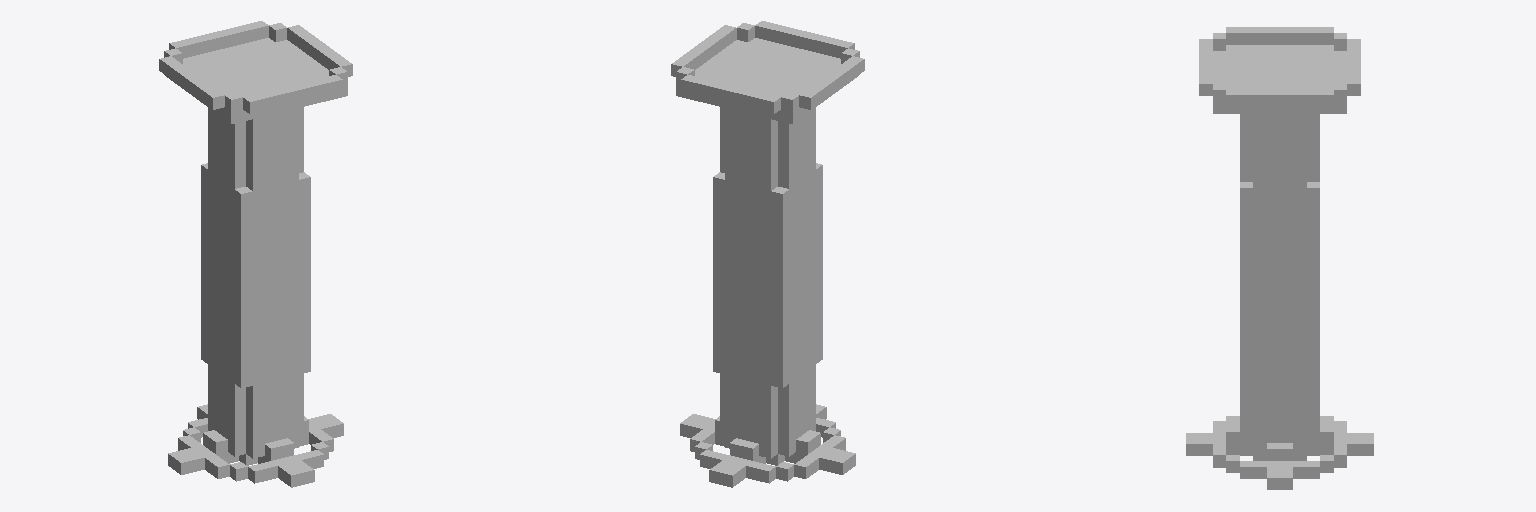
Rendered from torch.obj.
3 views of the same model, side by side, from view 1: azimuth 30°, elevation 25°; view 2: azimuth 150°, elevation 25°; view 3: azimuth 270°, elevation 25° (orthographic).
Visible parts, largest first — view 1: object 1; view 2: object 1; view 3: object 1.
Part boxes in pixels (x1,y1,x2,y2): object 1: (159, 21, 352, 487); object 1: (671, 21, 864, 487); object 1: (1186, 27, 1373, 489).
Bounding box in the file's own units: 1.4 × 3.2 × 1.4.